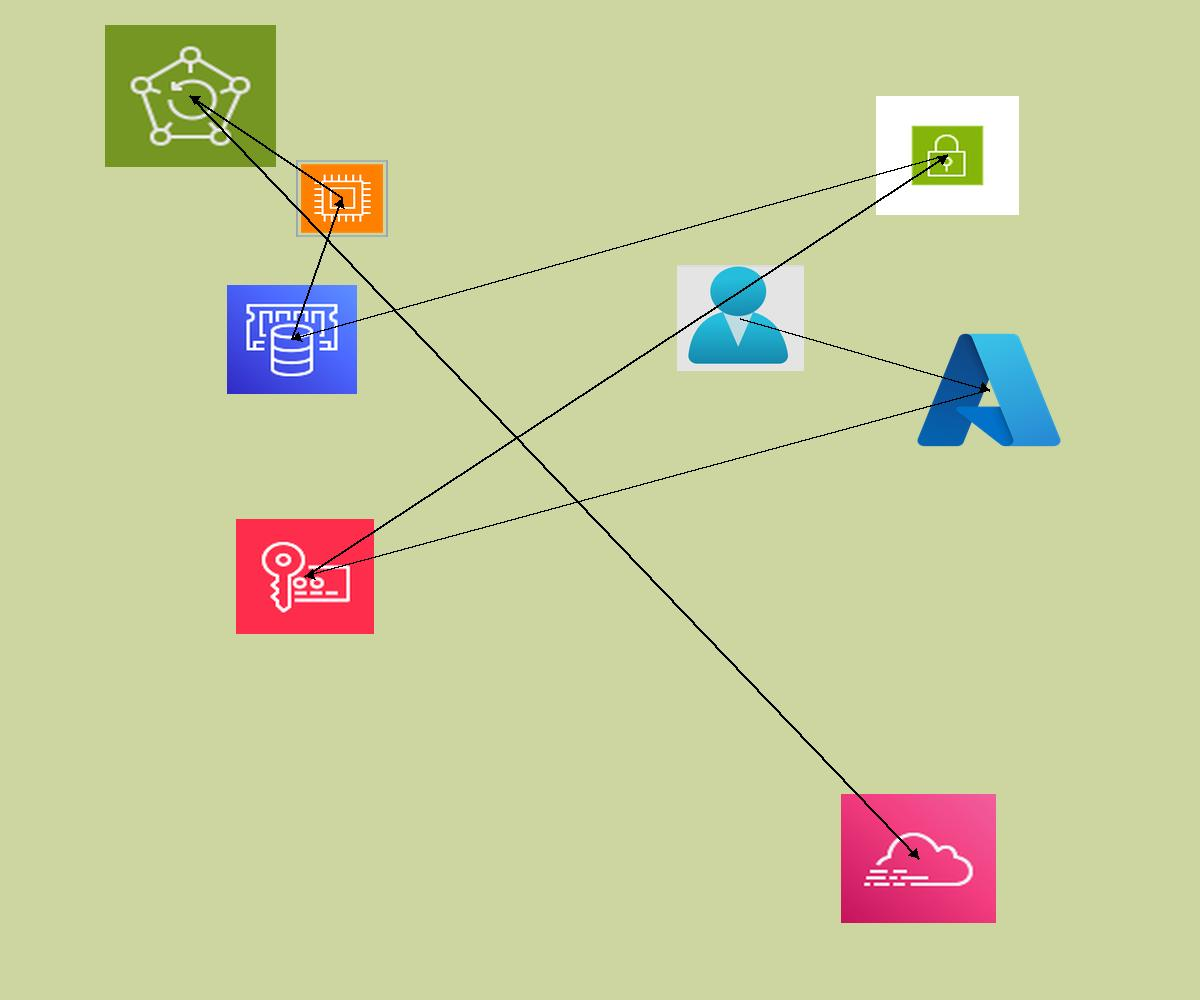AWS-Backup: (105, 25, 276, 167)
AWS-Category_Compute: (296, 160, 388, 237)
AWS-CloudTrail: (841, 794, 996, 923)
AWS-ElastiCache: (227, 285, 357, 394)
AWS-Key-Management-Service: (236, 519, 374, 634)
AWS-Public-subnet: (876, 96, 1019, 215)
Azure_services: (911, 325, 1067, 455)
Azure_users: (677, 265, 804, 371)
